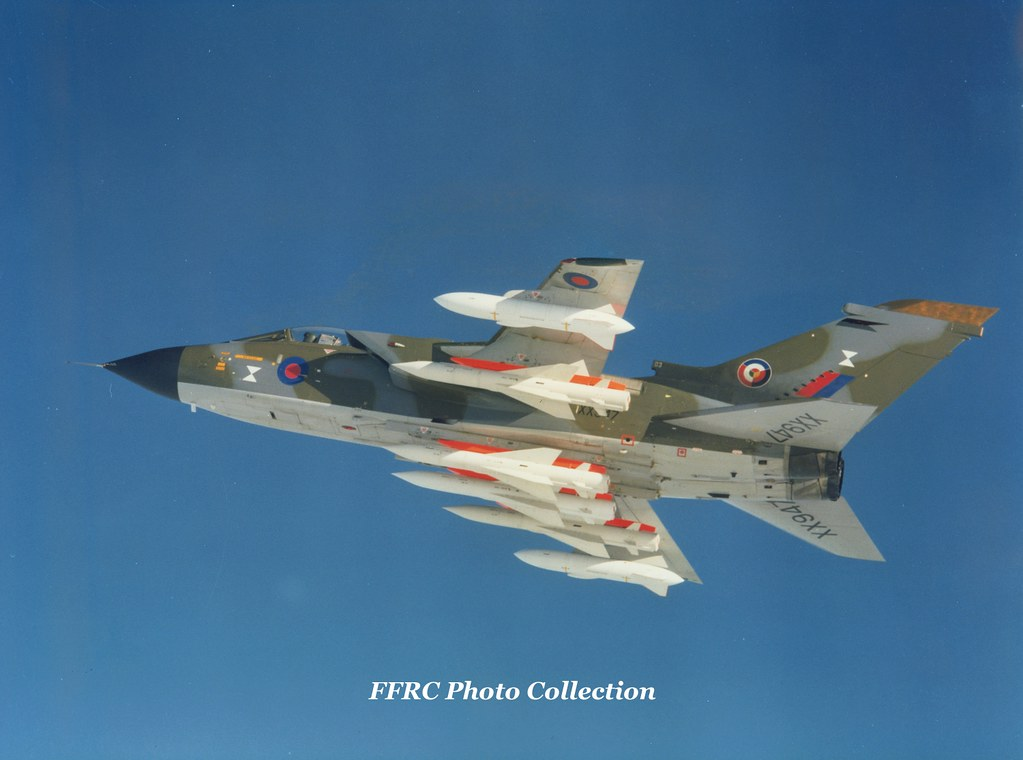Tornado: (66, 257, 1001, 597)
